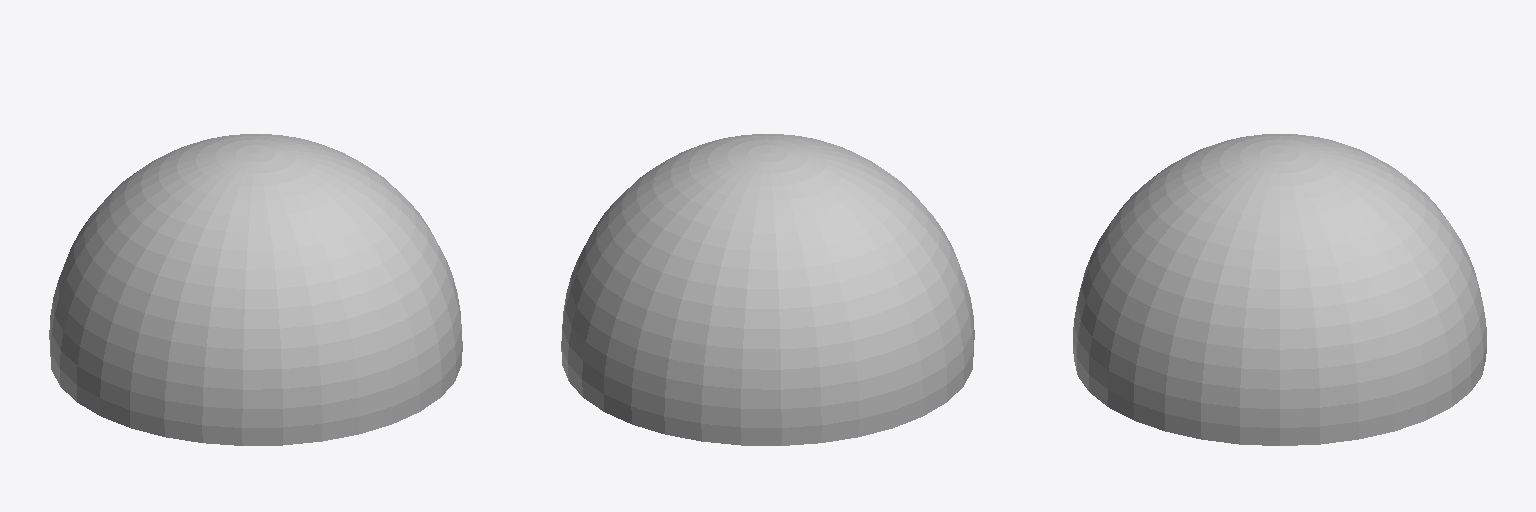
Rendered from halfsphere.obj.
3 renders of one model, left to right at view 1: azimuth 30°, elevation 25°; view 2: azimuth 150°, elevation 25°; view 3: azimuth 270°, elevation 25°, orthographic.
Visible parts, largest first — view 1: Sphere_Sphere.001; view 2: Sphere_Sphere.001; view 3: Sphere_Sphere.001.
Boxes of the visible parts, <box> form: Sphere_Sphere.001: <box>49,134,462,445</box>; Sphere_Sphere.001: <box>561,134,974,445</box>; Sphere_Sphere.001: <box>1073,134,1486,445</box>.
Size of the model in its own units: 2 by 1.1 by 2.